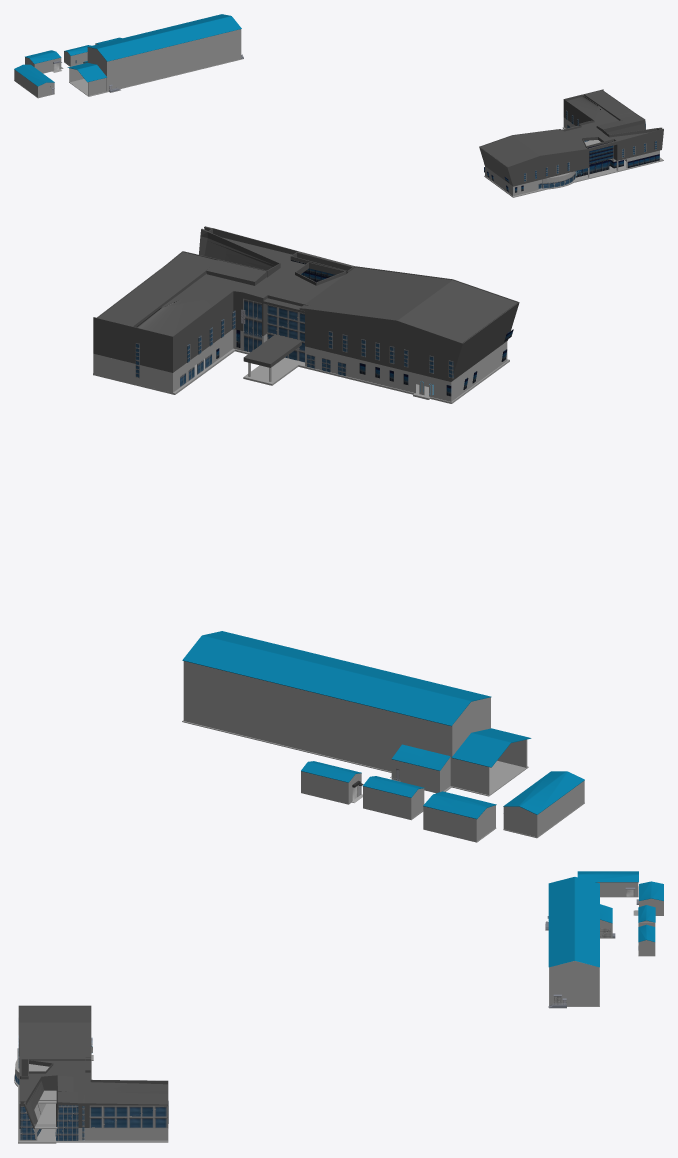
File: soubrain_T9.glb
3 views of the same model, one above another, from view 1: azimuth 30°, elevation 25°; view 2: azimuth 150°, elevation 25°; view 3: azimuth 270°, elevation 25° (orthographic). The views are drawn at different scales.
Parts seen in each view (by area): view 1: T-9-1, T9-2 (1), T-9-1-window, Box911, Box869, Box869 (1); view 2: T-9-1, T9-2 (1), T-9-1-window, Box911, Box869, Box869 (1), Box898; view 3: T-9-1, T9-2 (1), T-9-1-window, Box911, Box869, Box898.
Part boxes in pixels (x1,y1,x2,y2): T-9-1: [479, 89, 663, 197]; T9-2 (1): [67, 14, 243, 96]; T-9-1-window: [484, 110, 659, 192]; Box911: [14, 64, 54, 98]; Box869: [25, 50, 61, 73]; Box869 (1): [64, 45, 91, 66]; T-9-1: [93, 226, 519, 403]; T9-2 (1): [182, 631, 531, 796]; T-9-1-window: [135, 260, 513, 396]; Box911: [503, 771, 584, 838]; Box869: [423, 791, 496, 842]; Box869 (1): [363, 776, 424, 820]; Box898: [301, 761, 362, 804]; T-9-1: [14, 1005, 168, 1143]; T9-2 (1): [545, 877, 615, 1008]; T-9-1-window: [15, 1036, 168, 1140]; Box911: [577, 871, 638, 897]; Box869: [639, 881, 663, 915]; Box898: [638, 924, 655, 956].
Bounding box in the file's own units: 224 × 20.11 × 242.
Materials: 21 (14 with a texture image).
